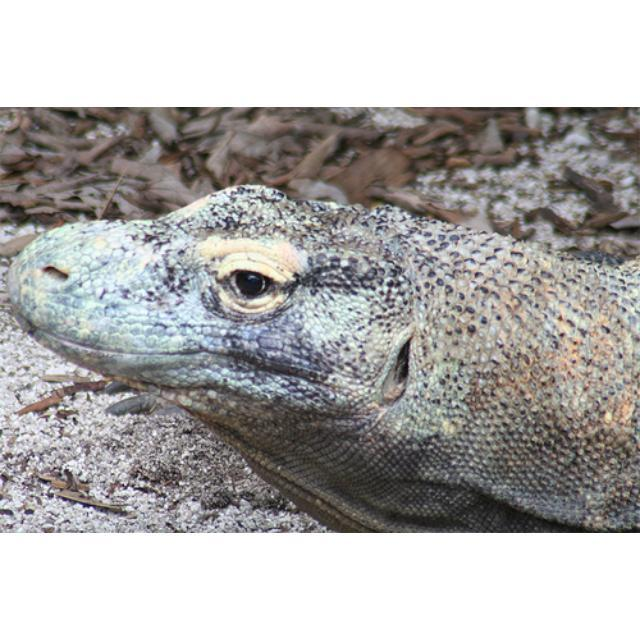KomodoDragon: (1, 178, 638, 522)
